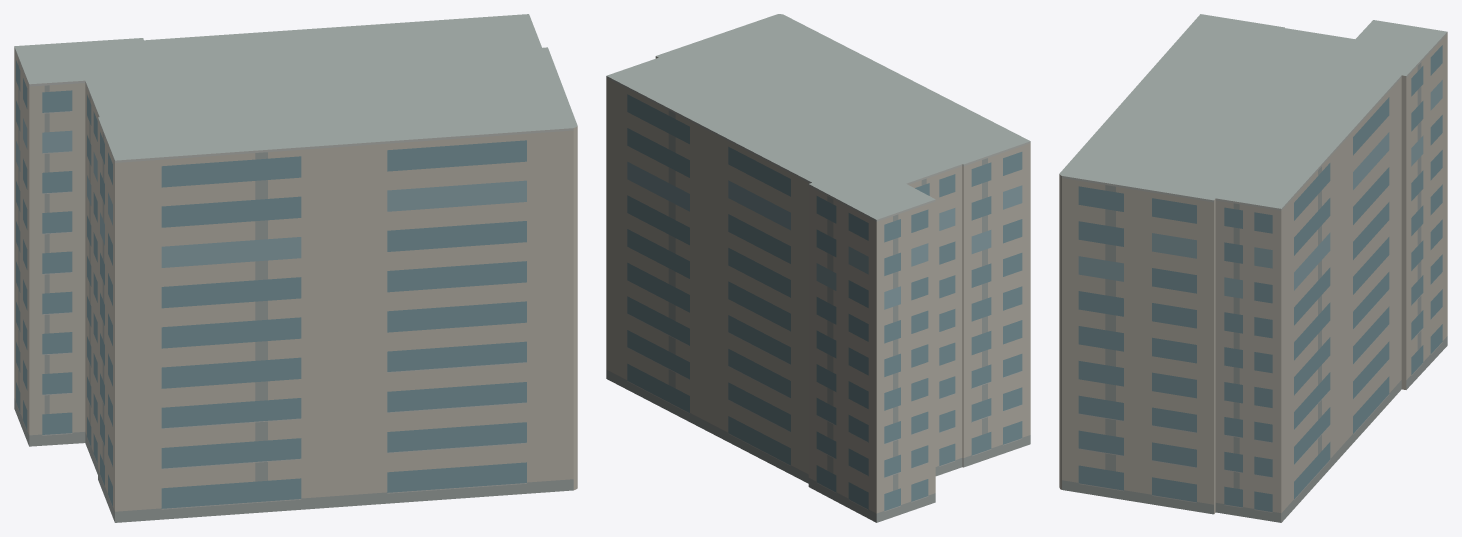
The model's file is survey-upis-32523257.glb.
3 renders of one model, left to right at view 1: azimuth 30°, elevation 25°; view 2: azimuth 150°, elevation 25°; view 3: azimuth 270°, elevation 25°, orthographic. The views are drawn at different scales.
Parts seen in each view (by area): view 1: survey-upis-32523257.tmp; view 2: survey-upis-32523257.tmp; view 3: survey-upis-32523257.tmp.
Boxes of the visible parts, x1=… form: survey-upis-32523257.tmp: x1=14, y1=14, x2=577, y2=522; survey-upis-32523257.tmp: x1=606, y1=14, x2=1030, y2=522; survey-upis-32523257.tmp: x1=1059, y1=14, x2=1447, y2=522.
Size of the model in its own units: 49.52 by 37.2 by 41.67.
